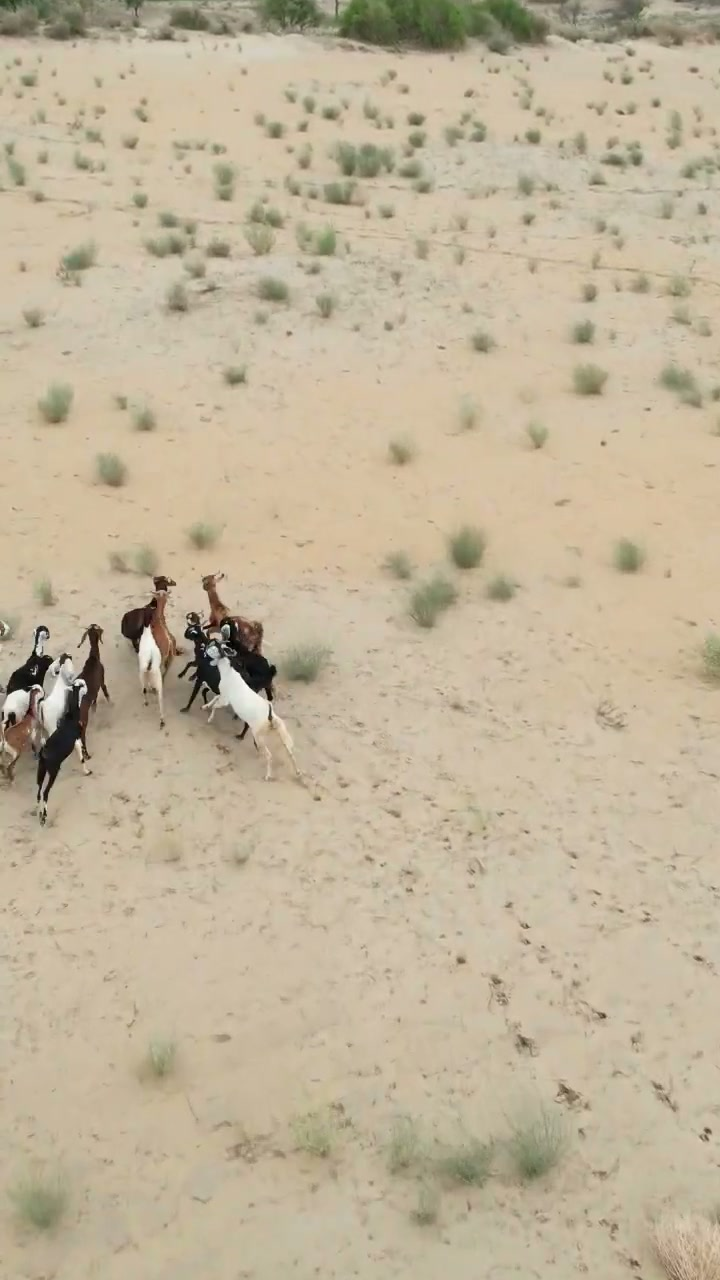animal_footprint: (3, 643, 700, 1231)
